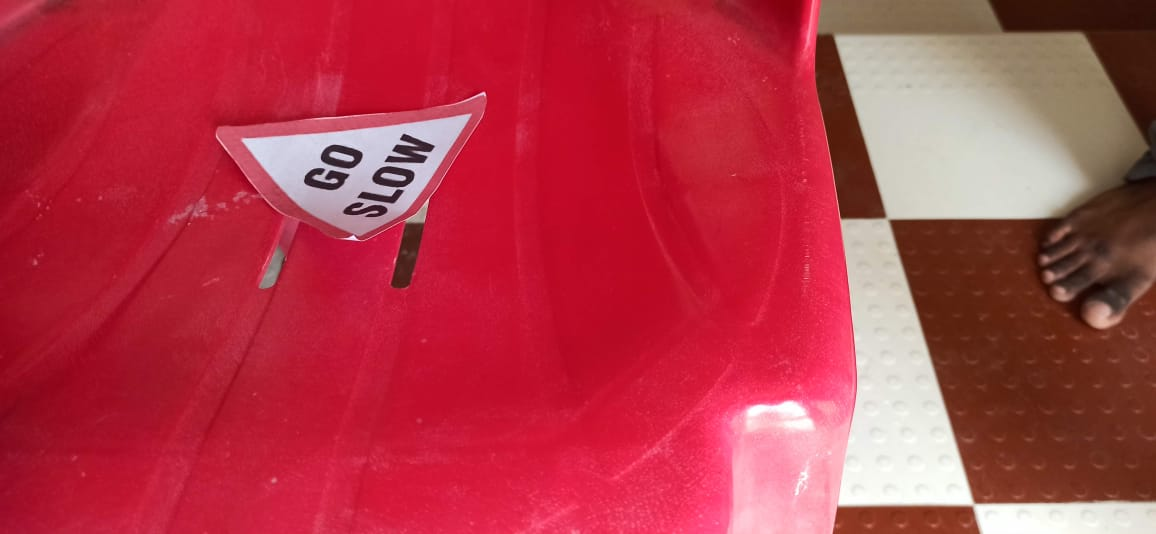GO SLOW: (202, 92, 502, 248)
